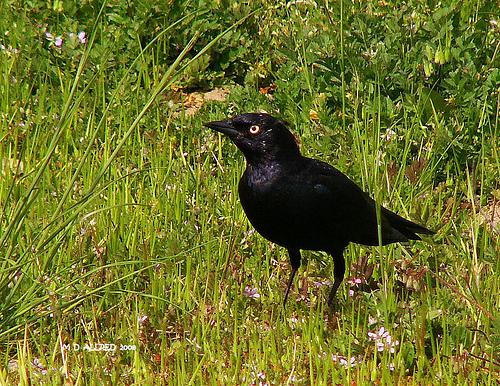009.Brewer_Blackbird: (198, 110, 433, 314)
